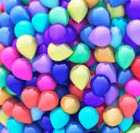Balloon: (69, 64, 90, 89), (16, 35, 37, 59), (78, 106, 99, 129), (88, 6, 111, 27), (11, 59, 32, 81), (90, 26, 111, 47), (115, 45, 135, 67), (68, 1, 88, 23), (90, 75, 110, 96), (103, 106, 123, 127), (118, 95, 137, 117), (47, 43, 71, 60), (49, 108, 69, 128), (37, 91, 58, 110), (12, 102, 31, 123), (51, 62, 69, 84), (4, 74, 22, 96), (60, 95, 80, 114), (71, 43, 90, 63), (48, 23, 66, 44), (21, 86, 37, 109), (127, 19, 140, 46), (36, 73, 55, 91), (32, 12, 49, 32), (49, 7, 68, 24), (10, 6, 30, 21), (14, 20, 32, 36), (124, 79, 140, 95)
